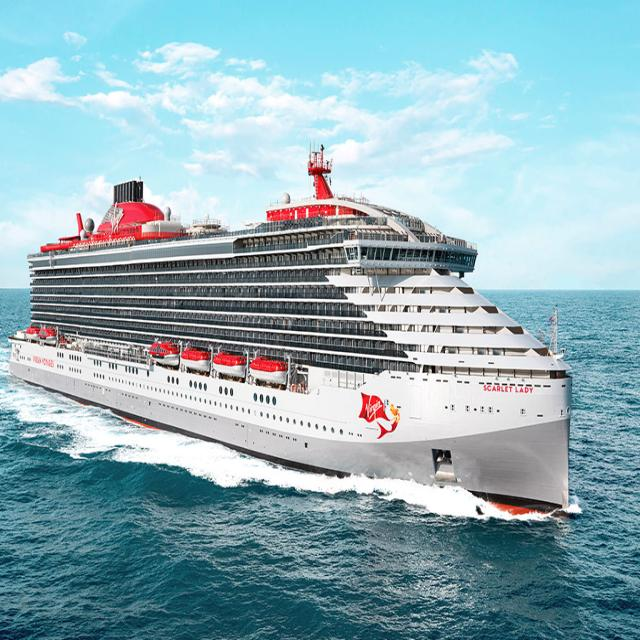passenger ship: (11, 152, 575, 517)
